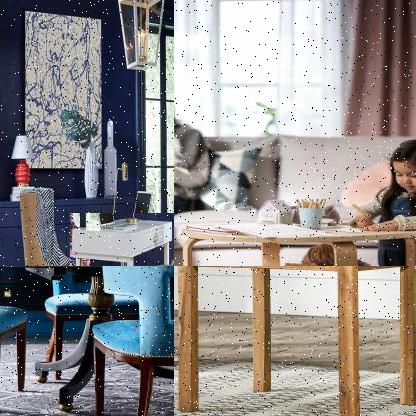table: (174, 266, 415, 415), (0, 266, 173, 415), (175, 213, 415, 265), (70, 213, 173, 265)
